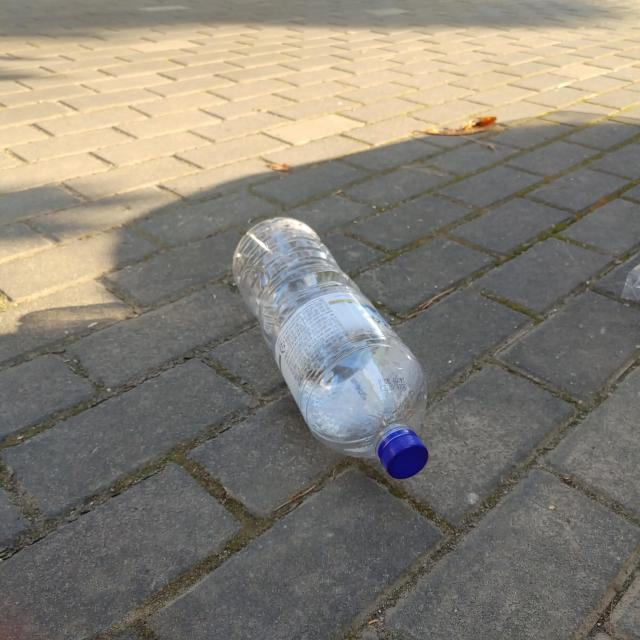plastic: (232, 217, 429, 479)
